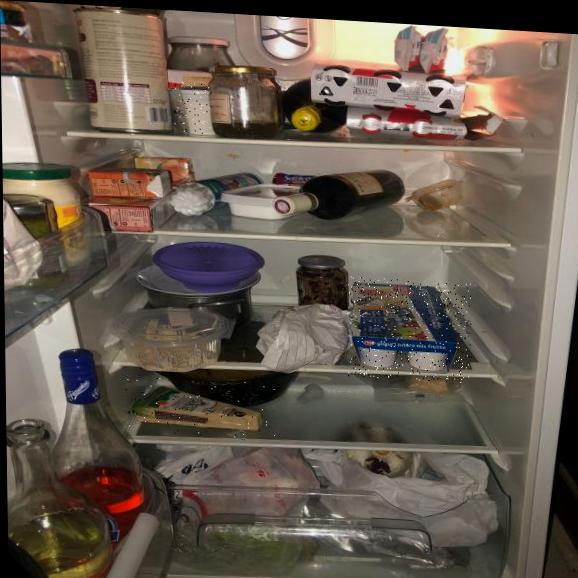cheese: (122, 375, 275, 442)
yoghurt: (347, 276, 473, 384), (174, 81, 215, 135)
